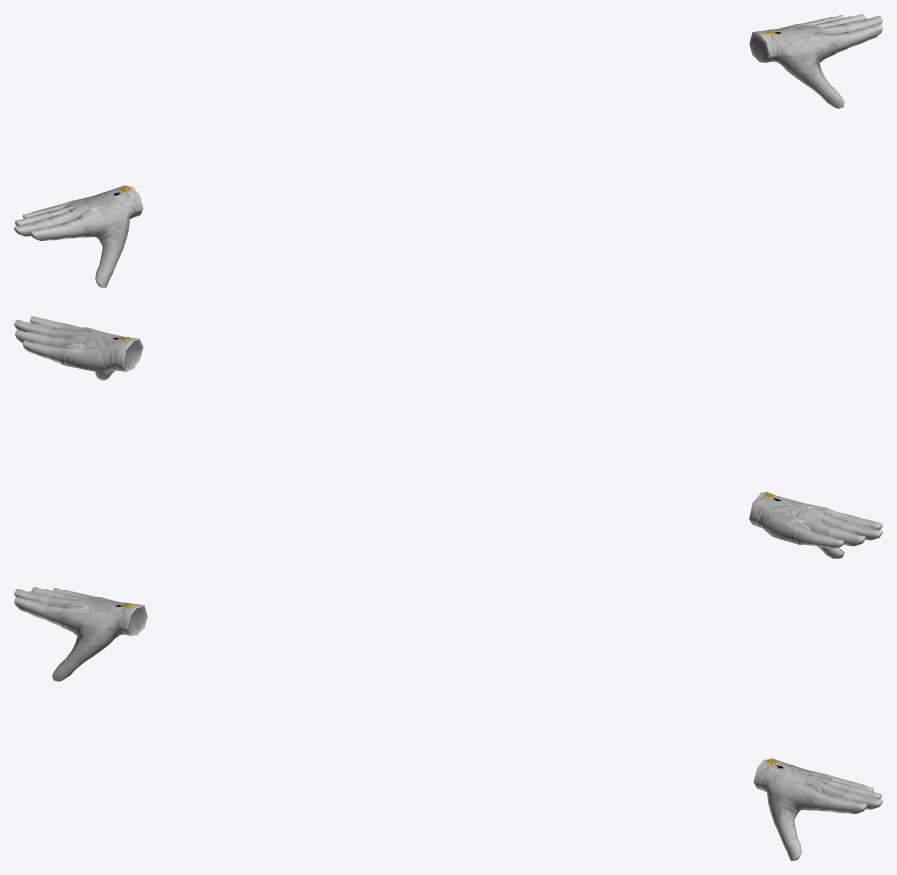
File: p0_glv0004_00_glv00.gltf
3 renders of one model, top to bottom at view 1: azimuth 30°, elevation 25°; view 2: azimuth 150°, elevation 25°; view 3: azimuth 330°, elevation 25°, orthographic.
Visible parts, largest first — view 1: glv00_glove_mesh_shape:glove; view 2: glv00_glove_mesh_shape:glove; view 3: glv00_glove_mesh_shape:glove.
Part boxes in pixels (x1,y1,x2,y2): glv00_glove_mesh_shape:glove: (14, 14, 882, 287); glv00_glove_mesh_shape:glove: (14, 316, 882, 558); glv00_glove_mesh_shape:glove: (14, 587, 882, 860).
Size of what is drawn, in the model's own units: 1.36 by 0.106 by 0.1177.
1 material, 1 textured.
